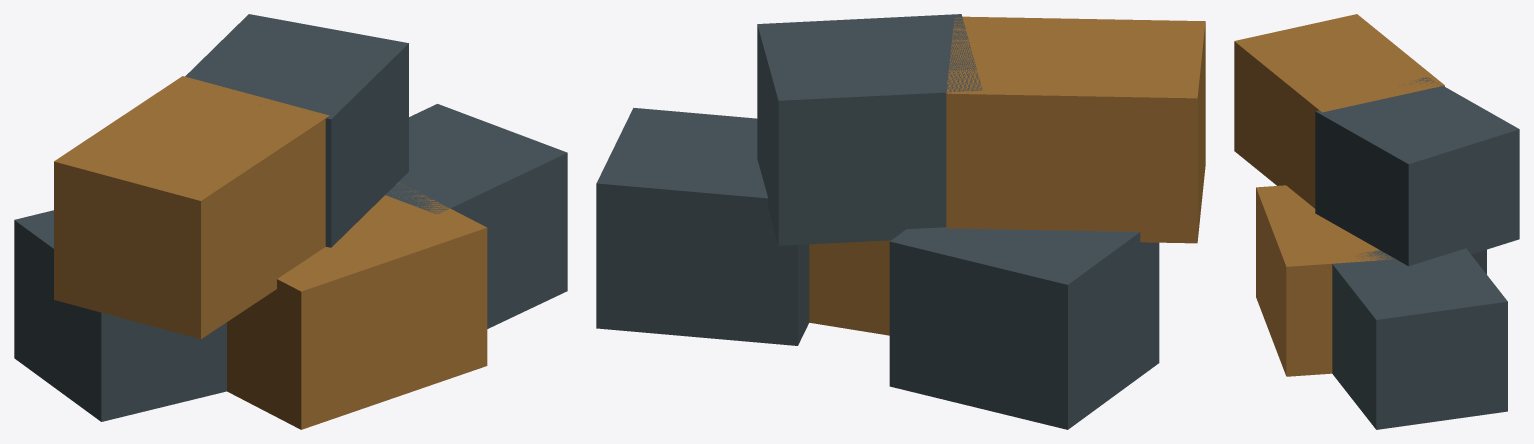
The model's file is story-prop.glb.
3 renders of one model, left to right at view 1: azimuth 30°, elevation 25°; view 2: azimuth 150°, elevation 25°; view 3: azimuth 270°, elevation 25°, orthographic. The views are drawn at different scales.
Parts seen in each view (by area): view 1: crate_3, crate_1, crate_4, crate_2, crate_0; view 2: crate_3, crate_0, crate_4, crate_2, crate_1; view 3: crate_4, crate_2, crate_3, crate_1.
Boxes of the visible parts, x1=… form: crate_3: x1=54, y1=76, x2=329, y2=339; crate_1: x1=227, y1=182, x2=487, y2=429; crate_4: x1=185, y1=14, x2=408, y2=247; crate_2: x1=385, y1=104, x2=567, y2=328; crate_0: x1=14, y1=210, x2=226, y2=421; crate_3: x1=946, y1=16, x2=1205, y2=243; crate_0: x1=889, y1=227, x2=1159, y2=429; crate_4: x1=757, y1=14, x2=982, y2=245; crate_2: x1=596, y1=107, x2=809, y2=345; crate_1: x1=809, y1=240, x2=890, y2=335; crate_4: x1=1315, y1=77, x2=1519, y2=266; crate_2: x1=1332, y1=248, x2=1507, y2=429; crate_3: x1=1234, y1=14, x2=1444, y2=208; crate_1: x1=1256, y1=185, x2=1395, y2=376.
Size of what is drawn, in the model's own units: 2.79 by 1.35 by 1.65.
